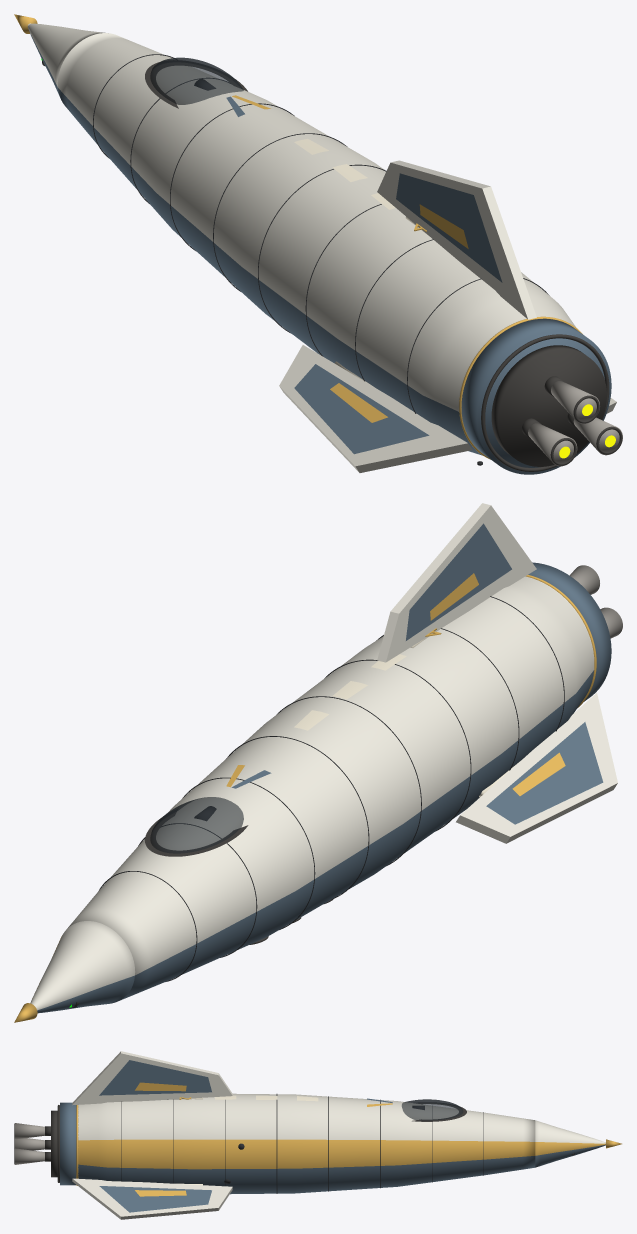
File: Ship_LunarCourier_899475.glb
The picture shows the model from 3 angles, top to bottom: view 1: azimuth 30°, elevation 25°; view 2: azimuth 150°, elevation 25°; view 3: azimuth 270°, elevation 25°; orthographic projection. The views are drawn at different scales.
Visible parts, largest first — view 1: Fuselage_TaperedPaintedBody, EngineDeck_AftDarkMountPlate, AftCollar_PrimaryEngineBand, TailFin_LeftLower_broad_CreamAerofoil, TailFin_Dorsal_broad_CreamAerofoil, TailFinPanel_LeftLower_PrimarySide_B, TailFinPanel_Dorsal_PrimarySide_A, CanopyGlass_DorsalLowInsetDome, NoseCone_PaintedNeedleSection, AftTrimRing_DarkRear, EngineBell_LeftLower_BurnishedNozzle, EngineBell_Upper_BurnishedNozzle (+5 smaller); view 2: Fuselage_TaperedPaintedBody, NoseCone_PaintedNeedleSection, TailFin_LeftLower_broad_CreamAerofoil, TailFin_Dorsal_broad_CreamAerofoil, TailFinPanel_LeftLower_PrimarySide_B, TailFinPanel_Dorsal_PrimarySide_A, CanopyGlass_DorsalLowInsetDome, AftCollar_PrimaryEngineBand, CanopyFrame_DorsalOvalRim, TailFinTrimPatch_LeftLower_B; view 3: Fuselage_TaperedPaintedBody, TailFin_Dorsal_broad_CreamAerofoil, TailFin_RightLower_broad_CreamAerofoil, TailFinPanel_Dorsal_PrimarySide_B, NoseCone_PaintedNeedleSection, TailFinPanel_RightLower_PrimarySide_A, AftCollar_PrimaryEngineBand, CanopyGlass_DorsalLowInsetDome, EngineDeck_AftDarkMountPlate, EngineBell_RightLower_BurnishedNozzle, EngineBell_Upper_BurnishedNozzle, TailFinTrimPatch_Dorsal_B (+3 smaller).
Boxes of the visible parts, left/top/right/bottom form: Fuselage_TaperedPaintedBody: left=57, top=33, right=576, bottom=455; EngineDeck_AftDarkMountPlate: left=491, top=345, right=606, bottom=466; AftCollar_PrimaryEngineBand: left=461, top=318, right=611, bottom=474; TailFin_LeftLower_broad_CreamAerofoil: left=279, top=345, right=472, bottom=472; TailFin_Dorsal_broad_CreamAerofoil: left=377, top=160, right=536, bottom=319; TailFinPanel_LeftLower_PrimarySide_B: left=294, top=364, right=429, bottom=454; TailFinPanel_Dorsal_PrimarySide_A: left=396, top=173, right=502, bottom=282; CanopyGlass_DorsalLowInsetDome: left=150, top=57, right=243, bottom=104; NoseCone_PaintedNeedleSection: left=27, top=23, right=105, bottom=95; AftTrimRing_DarkRear: left=481, top=334, right=609, bottom=471; EngineBell_LeftLower_BurnishedNozzle: left=528, top=423, right=577, bottom=466; EngineBell_Upper_BurnishedNozzle: left=551, top=381, right=599, bottom=423; Fuselage_TaperedPaintedBody: left=66, top=576, right=594, bottom=1000; NoseCone_PaintedNeedleSection: left=30, top=921, right=135, bottom=1013; TailFin_LeftLower_broad_CreamAerofoil: left=456, top=693, right=617, bottom=843; TailFin_Dorsal_broad_CreamAerofoil: left=377, top=503, right=536, bottom=662; TailFinPanel_LeftLower_PrimarySide_B: left=486, top=722, right=603, bottom=824; TailFinPanel_Dorsal_PrimarySide_A: left=406, top=523, right=511, bottom=640; CanopyGlass_DorsalLowInsetDome: left=150, top=797, right=243, bottom=853; AftCollar_PrimaryEngineBand: left=528, top=562, right=611, bottom=701; CanopyFrame_DorsalOvalRim: left=145, top=809, right=248, bottom=856; TailFinTrimPatch_LeftLower_B: left=512, top=752, right=565, bottom=795; Fuselage_TaperedPaintedBody: left=78, top=1093, right=535, bottom=1194; TailFin_Dorsal_broad_CreamAerofoil: left=72, top=1051, right=232, bottom=1105; TailFin_RightLower_broad_CreamAerofoil: left=72, top=1178, right=232, bottom=1219; TailFinPanel_Dorsal_PrimarySide_B: left=99, top=1060, right=211, bottom=1095; NoseCone_PaintedNeedleSection: left=535, top=1120, right=605, bottom=1167; TailFinPanel_RightLower_PrimarySide_A: left=99, top=1186, right=211, bottom=1212; AftCollar_PrimaryEngineBand: left=60, top=1102, right=76, bottom=1185; CanopyGlass_DorsalLowInsetDome: left=402, top=1099, right=463, bottom=1120; EngineDeck_AftDarkMountPlate: left=51, top=1110, right=57, bottom=1177; EngineBell_RightLower_BurnishedNozzle: left=15, top=1148, right=44, bottom=1164; EngineBell_Upper_BurnishedNozzle: left=15, top=1123, right=44, bottom=1139; TailFinTrimPatch_Dorsal_B: left=135, top=1082, right=186, bottom=1091.
Size of the model in its own units: 2.8 by 2.66 by 10.62.
